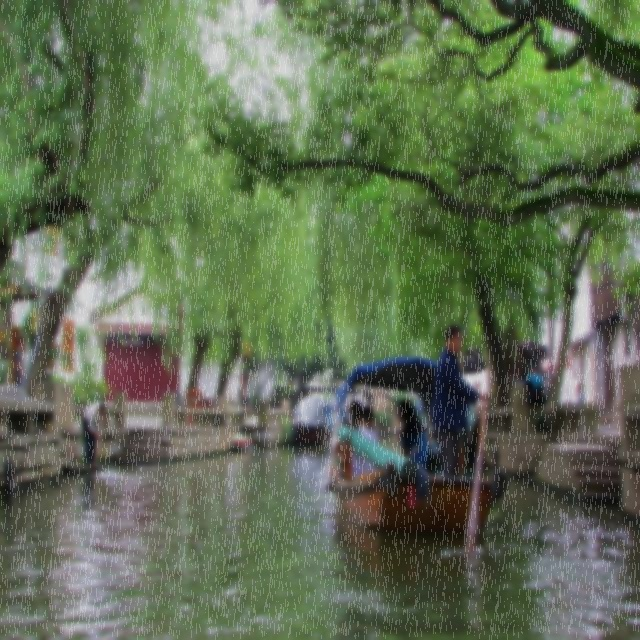pessoa: (430, 323, 488, 479), (350, 404, 380, 480), (397, 398, 429, 468), (81, 400, 107, 468), (346, 399, 364, 479), (422, 416, 442, 478), (14, 340, 26, 388), (526, 365, 546, 389), (574, 382, 584, 404), (542, 379, 550, 398), (358, 393, 365, 409), (563, 398, 572, 404)
